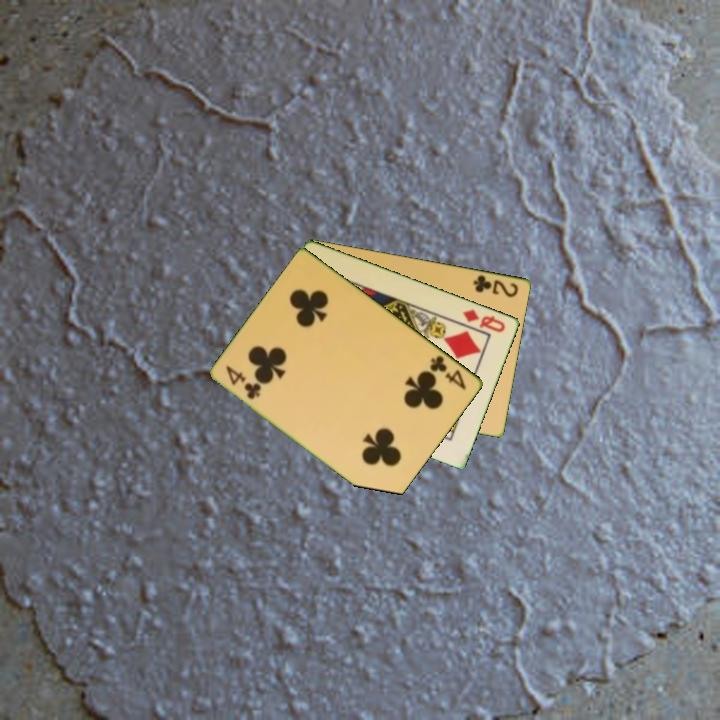2c: (470, 271, 521, 300)
4c: (427, 352, 470, 393), (222, 362, 264, 402)
Qd: (459, 306, 509, 335)
